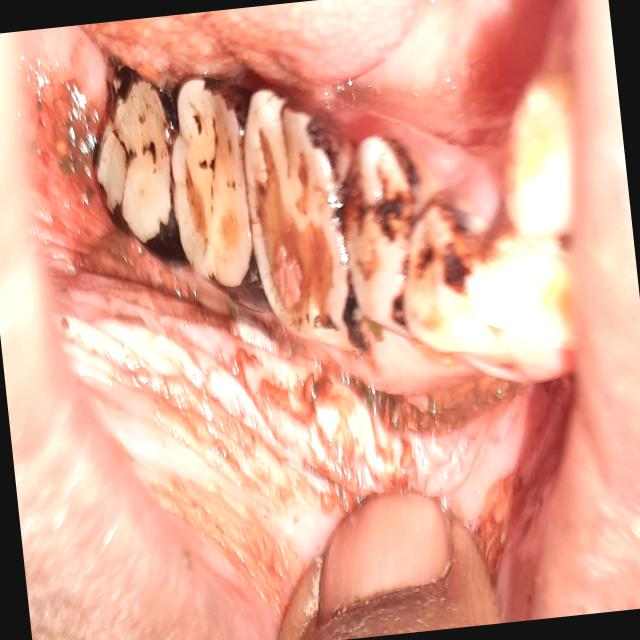Cancer: (57, 176, 640, 637)
